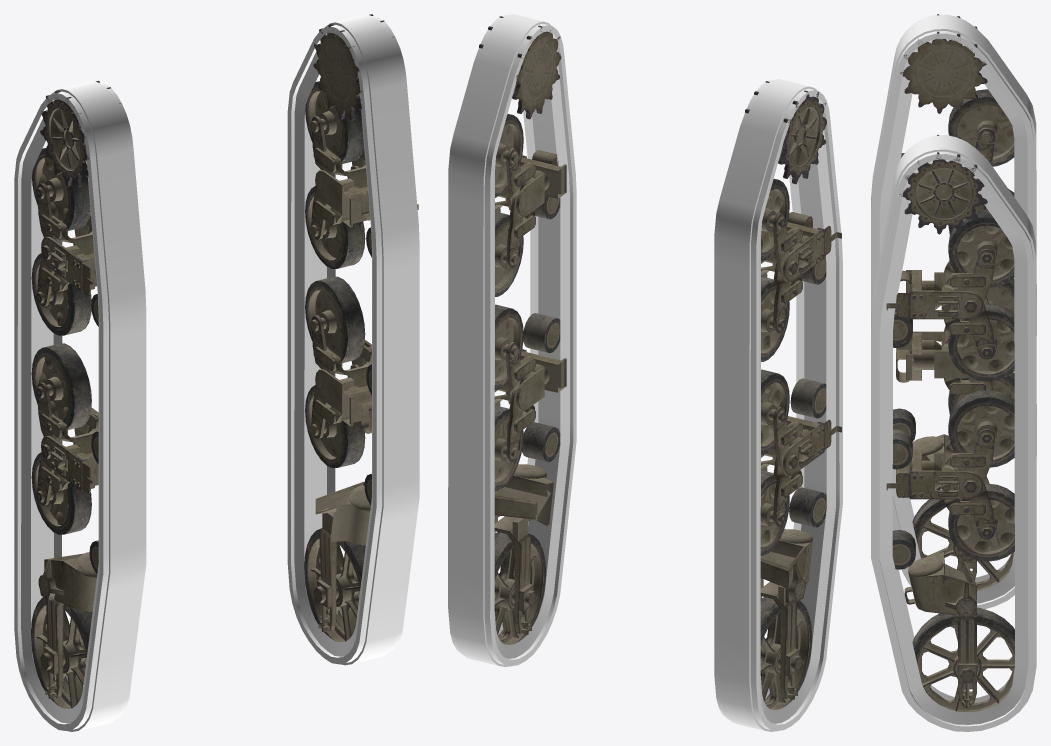
The model's file is Chassis.glb.
The picture shows the model from 3 angles, left to right: view 1: azimuth 30°, elevation 25°; view 2: azimuth 150°, elevation 25°; view 3: azimuth 270°, elevation 25°; orthographic projection. The views are drawn at different scales.
Parts seen in each view (by area): view 1: set_0_group_0, set_1_group_0, set_2_group_0, set_3_group_0; view 2: set_1_group_0, set_0_group_0, set_3_group_0, set_2_group_0; view 3: set_3_group_0, set_0_group_0, set_2_group_0, set_1_group_0.
Part boxes in pixels (x1=…): set_0_group_0: x1=287, y1=14, x2=419, y2=665; set_1_group_0: x1=14, y1=81, x2=146, y2=731; set_2_group_0: x1=31, y1=80, x2=121, y2=708; set_3_group_0: x1=304, y1=14, x2=418, y2=642; set_1_group_0: x1=714, y1=79, x2=842, y2=731; set_0_group_0: x1=448, y1=14, x2=576, y2=666; set_3_group_0: x1=479, y1=16, x2=566, y2=644; set_2_group_0: x1=745, y1=81, x2=841, y2=709; set_3_group_0: x1=886, y1=135, x2=1014, y2=712; set_0_group_0: x1=871, y1=135, x2=1036, y2=731; set_2_group_0: x1=893, y1=14, x2=1014, y2=590; set_1_group_0: x1=871, y1=14, x2=1036, y2=609.
Bounding box in the file's own units: 2.26 × 4.19 × 1.08.
4 materials, 2 textured.
